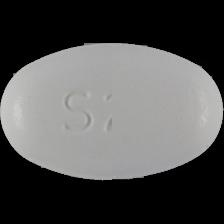43063-096: (0, 0, 224, 224)
